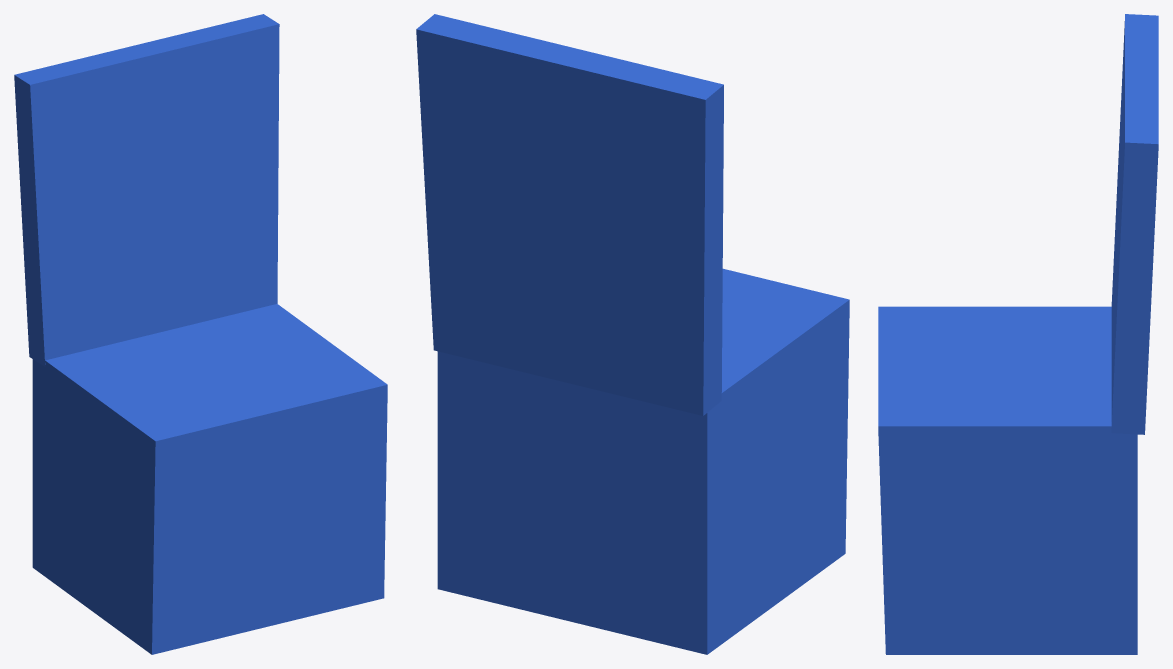
File: Collision_Chair_1.fbx
The picture shows the model from 3 angles, left to right: view 1: azimuth 30°, elevation 25°; view 2: azimuth 150°, elevation 25°; view 3: azimuth 270°, elevation 25°; orthographic projection. The views are drawn at different scales.
Visible parts, largest first — view 1: UCX_Chair_1_1, UCX_Chair_1_2; view 2: UCX_Chair_1_1, UCX_Chair_1_2; view 3: UCX_Chair_1_1, UCX_Chair_1_2.
Boxes of the visible parts, left/top/right/bottom form: UCX_Chair_1_1: left=32, top=304, right=387, bottom=654; UCX_Chair_1_2: left=14, top=14, right=279, bottom=366; UCX_Chair_1_1: left=437, top=268, right=849, bottom=654; UCX_Chair_1_2: left=416, top=14, right=723, bottom=415; UCX_Chair_1_1: left=878, top=306, right=1137, bottom=654; UCX_Chair_1_2: left=1111, top=14, right=1158, bottom=434.
Bounding box in the file's own units: 59.04 × 111 × 54.46.
